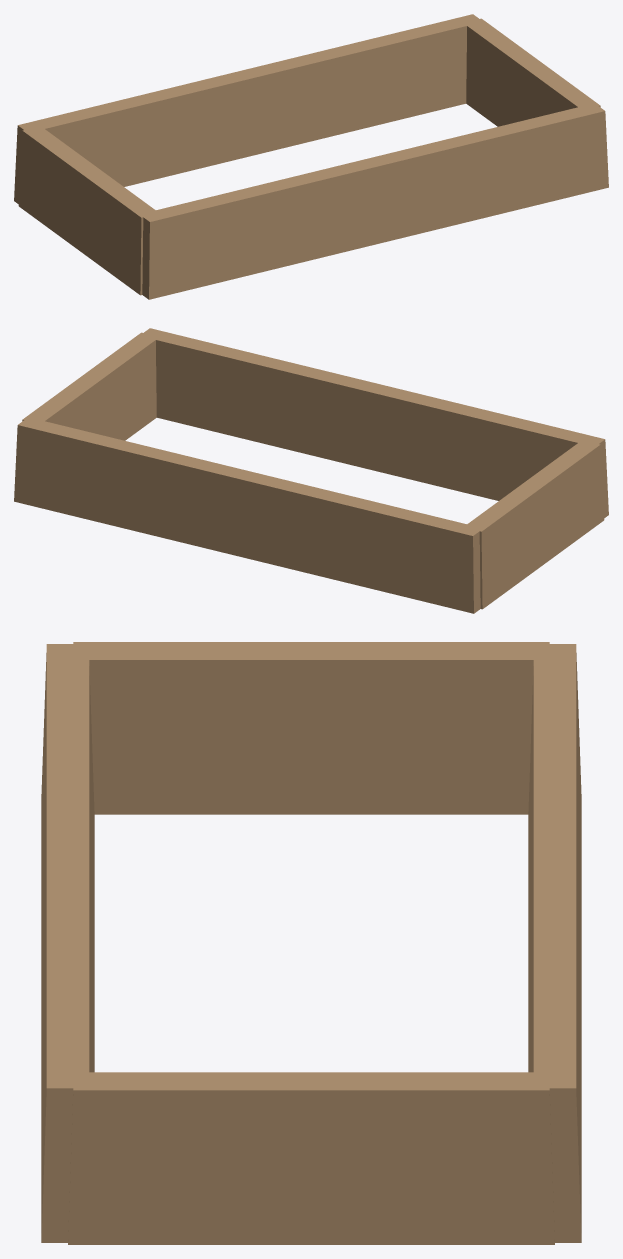
The model's file is raised-bed-frame-low.glb.
3 renders of one model, top to bottom at view 1: azimuth 30°, elevation 25°; view 2: azimuth 150°, elevation 25°; view 3: azimuth 270°, elevation 25°, orthographic. The views are drawn at different scales.
Visible parts, largest first — view 1: raised-bed-frame; view 2: raised-bed-frame; view 3: raised-bed-frame.
Boxes of the visible parts, box(x1,y1,x2,y2) form: raised-bed-frame: box(14, 14, 608, 299); raised-bed-frame: box(14, 328, 608, 613); raised-bed-frame: box(41, 642, 581, 1244).
Bounding box in the file's own units: 2.42 × 0.38 × 1.22.
